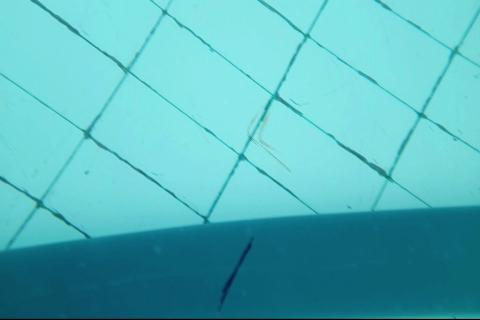keretakan: (214, 238, 253, 313)
